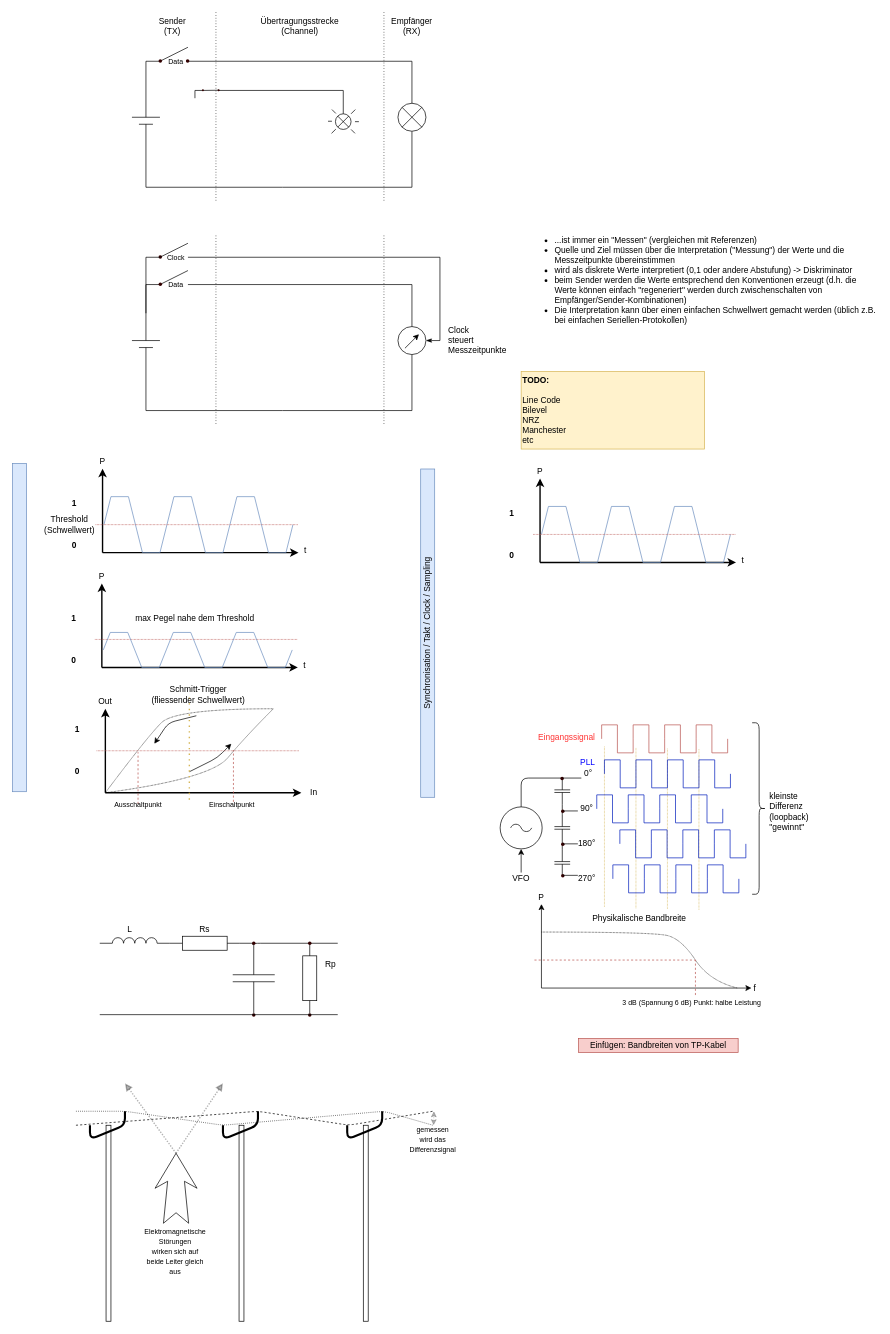
Some shapes in this 890 by 1334 pixel diagram are drawn without their labels. Here are the shapes that lost their labels. From the top down, the box of each, then its label:
(12, 463, 27, 792): Pegel / Level Messung
(232, 943, 275, 1013): Cp
